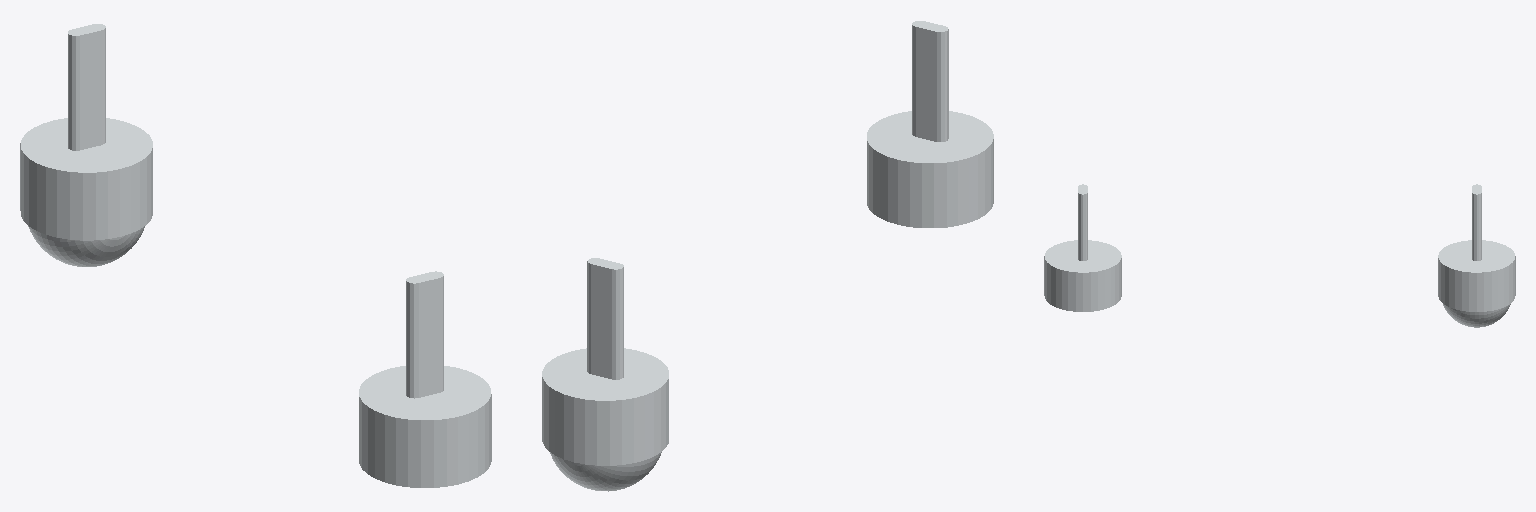
The robot description file, URDF, robot "lide":
<?xml version="1.0" encoding="utf-8"?>
<!-- This URDF was automatically created by SolidWorks to URDF Exporter! Originally created by [author] ([email redacted]) 
     Commit Version: 1.5.1-0-g916b5db  Build Version: 1.5.7152.31018
     For more information, please see http://wiki.ros.org/sw_urdf_exporter -->
<robot
  name="lide">
  <link
    name="base_link">
    <inertial>
      <origin
        xyz="-0.087524 0.0013274 0.047463"
        rpy="0 0 0" />
      <mass
        value="3.153" />
      <inertia
        ixx="0.0073295"
        ixy="-5.4758E-07"
        ixz="-7.3649E-06"
        iyy="0.005633"
        iyz="-3.0089E-07"
        izz="0.012235" />
    </inertial>
    <visual>
      <origin
        xyz="0 0 0"
        rpy="0 0 0" />
      <geometry>
        <mesh
          filename="package://lide/meshes/base_link.STL" />
      </geometry>
      <material
        name="">
        <color
          rgba="0.75294 0.75294 0.75294 1" />
      </material>
    </visual>
    <collision>
      <origin
        xyz="0 0 0"
        rpy="0 0 0" />
      <geometry>
        <mesh
          filename="package://lide/meshes/base_link.STL" />
      </geometry>
    </collision>
  </link>
  <link
    name="LFS">
    <inertial>
      <origin
        xyz="0.04556 0.0083094 0.0029762"
        rpy="0 0 0" />
      <mass
        value="0.072793" />
      <inertia
        ixx="2.2093E-05"
        ixy="-1.6485E-08"
        ixz="-1.5645E-07"
        iyy="1.6263E-05"
        iyz="2.9641E-09"
        izz="1.8084E-05" />
    </inertial>
    <visual>
      <origin
        xyz="0 0 0"
        rpy="0 0 0" />
      <geometry>
        <mesh
          filename="package://lide/meshes/LFS.STL" />
      </geometry>
      <material
        name="">
        <color
          rgba="0.75294 0.75294 0.75294 1" />
      </material>
    </visual>
    <collision>
      <origin
        xyz="0 0 0"
        rpy="0 0 0" />
      <geometry>
        <mesh
          filename="package://lide/meshes/LFS.STL" />
      </geometry>
    </collision>
  </link>
  <joint
    name="LFS"
    type="fixed">
    <origin
      xyz="-0.0210436140506678 0.117153640036847 -0.036502747985397"
      rpy="1.5707963267949 0 1.5707963267949" />
    <parent
      link="base_link" />
    <child
      link="LFS" />
    <axis
      xyz="0 0 0" />
  </joint>
  <link
    name="LFW">
    <inertial>
      <origin
        xyz="0.015 0 2.6021E-18"
        rpy="0 0 0" />
      <mass
        value="0.76708" />
      <inertia
        ixx="0.0011643"
        ixy="-1.2511E-22"
        ixz="-1.8331E-20"
        iyy="0.00063966"
        iyz="-3.3881E-21"
        izz="0.00063966" />
    </inertial>
    <visual>
      <origin
        xyz="0 0 0"
        rpy="0 0 0" />
      <geometry>
        <mesh
          filename="package://lide/meshes/LFW.STL" />
      </geometry>
      <material
        name="">
        <color
          rgba="0.89804 0.91765 0.92941 1" />
      </material>
    </visual>
    <collision>
      <origin
        xyz="0 0 0"
        rpy="0 1.5708 0" />
      <geometry>
        <cylinder length="0.03" radius="0.055"/>
      </geometry>
    </collision>
  </link>
  <joint
    name="LFW"
    type="continuous">
    <origin
      xyz="0.063346 -0.006798 0.015044"
      rpy="-1.6264 0 0" />
    <parent
      link="LFS" />
    <child
      link="LFW" />
    <axis
      xyz="1 0 0" />
    <limit
      effort="3.1"
      velocity="7" />
  </joint>
  <link
    name="RFS">
    <inertial>
      <origin
        xyz="-0.019183 -0.0090093 0.052006"
        rpy="0 0 0" />
      <mass
        value="0.072793" />
      <inertia
        ixx="2.2093E-05"
        ixy="-1.6485E-08"
        ixz="1.5645E-07"
        iyy="1.6263E-05"
        iyz="-2.9641E-09"
        izz="1.8084E-05" />
    </inertial>
    <visual>
      <origin
        xyz="0 0 0"
        rpy="0 0 0" />
      <geometry>
        <mesh
          filename="package://lide/meshes/RFS.STL" />
      </geometry>
      <material
        name="">
        <color
          rgba="0.75294 0.75294 0.75294 1" />
      </material>
    </visual>
    <collision>
      <origin
        xyz="0 0 0"
        rpy="0 0 0" />
      <geometry>
        <mesh
          filename="package://lide/meshes/RFS.STL" />
      </geometry>
    </collision>
  </link>
  <joint
    name="RFS"
    type="fixed">
    <origin
      xyz="-0.070073 -0.14353 -0.019216"
      rpy="1.5708 0 1.5708" />
    <parent
      link="base_link" />
    <child
      link="RFS" />
    <axis
      xyz="0 0 0" />
  </joint>
  <link
    name="RFW">
    <inertial>
      <origin
        xyz="-0.015 1.0842E-19 0"
        rpy="0 0 0" />
      <mass
        value="0.76708" />
      <inertia
        ixx="0.0011643"
        ixy="-4.9591E-37"
        ixz="0"
        iyy="0.00063966"
        iyz="-2.2172E-36"
        izz="0.00063966" />
    </inertial>
    <visual>
      <origin
        xyz="0 0 0"
        rpy="0 0 0" />
      <geometry>
        <mesh
          filename="package://lide/meshes/RFW.STL" />
      </geometry>
      <material
        name="">
        <color
          rgba="0.89804 0.91765 0.92941 1" />
      </material>
    </visual>
    <collision>
      <origin
        xyz="0 0 0"
        rpy="0 1.5708 0" />
      <geometry>
        <cylinder length="0.03" radius="0.055"/>
      </geometry>
    </collision>
  </link>
  <joint
    name="RFW"
    type="continuous">
    <origin
      xyz="-0.036969 -0.024084 0.064073"
      rpy="0 0 0" />
    <parent
      link="RFS" />
    <child
      link="RFW" />
    <axis
      xyz="1 0 0" />
    <limit
      effort="3.1"
      velocity="7" />
  </joint>
  <link
    name="LBS">
    <inertial>
      <origin
        xyz="0 -0.026414 0"
        rpy="0 0 0" />
      <mass
        value="0.15356" />
      <inertia
        ixx="9.9033E-05"
        ixy="-1.5126E-21"
        ixz="3.292E-20"
        iyy="9.2198E-05"
        iyz="-1.2113E-20"
        izz="9.8461E-05" />
    </inertial>
    <visual>
      <origin
        xyz="0 0 0"
        rpy="0 0 0" />
      <geometry>
        <mesh
          filename="package://lide/meshes/LBS.STL" />
      </geometry>
      <material
        name="">
        <color
          rgba="0.89804 0.91765 0.92941 1" />
      </material>
    </visual>
    <collision>
      <origin
        xyz="0 0 0"
        rpy="0 0 0" />
      <geometry>
        <mesh
          filename="package://lide/meshes/LBS.STL" />
      </geometry>
    </collision>
  </link>
  <joint
    name="LBS"
    type="fixed">
    <origin
      xyz="-0.169 0.16275 -0.012562"
      rpy="1.5708 0 1.5708" />
    <parent
      link="base_link" />
    <child
      link="LBS" />
    <axis
      xyz="0 0 0" />
  </joint>
  <link
    name="LBW">
    <inertial>
      <origin
        xyz="3.4694E-18 0 0"
        rpy="0 0 0" />
      <mass
        value="0.30079" />
      <inertia
        ixx="0.00010856"
        ixy="-4.3013E-56"
        ixz="2.8314E-40"
        iyy="0.00010991"
        iyz="7.7486E-40"
        izz="0.00010856" />
    </inertial>
    <visual>
      <origin
        xyz="0 0 0"
        rpy="0 0 0" />
      <geometry>
        <mesh
          filename="package://lide/meshes/LBW.STL" />
      </geometry>
      <material
        name="">
        <color
          rgba="0.89804 0.91765 0.92941 1" />
      </material>
    </visual>
    <collision>
      <origin
        xyz="0 0 0"
        rpy="0 0 0" />
      <geometry>
        <sphere radius="0.03"/>
      </geometry>
    </collision>
  </link>
  <joint
    name="LBW"
    type="fixed">
    <origin
      xyz="0 -0.053938 0"
      rpy="3.1416 0 1.5708" />
    <parent
      link="LBS" />
    <child
      link="LBW" />
    <axis
      xyz="0 0 0" />
    <limit
      lower="0"
      upper="0"
      effort="0"
      velocity="0" />
  </joint>
  <link
    name="RBS">
    <inertial>
      <origin
        xyz="2.0817E-17 -0.026414 0"
        rpy="0 0 0" />
      <mass
        value="0.15356" />
      <inertia
        ixx="9.9033E-05"
        ixy="2.9378E-20"
        ixz="1.4915E-20"
        iyy="9.2198E-05"
        iyz="-1.2105E-20"
        izz="9.8461E-05" />
    </inertial>
    <visual>
      <origin
        xyz="0 0 0"
        rpy="0 0 0" />
      <geometry>
        <mesh
          filename="package://lide/meshes/RBS.STL" />
      </geometry>
      <material
        name="">
        <color
          rgba="0.89804 0.91765 0.92941 1" />
      </material>
    </visual>
    <collision>
      <origin
        xyz="0 0 0"
        rpy="0 0 0" />
      <geometry>
        <mesh
          filename="package://lide/meshes/RBS.STL" />
      </geometry>
    </collision>
  </link>
  <joint
    name="RBS"
    type="fixed">
    <origin
      xyz="-0.169 -0.16275 -0.012562"
      rpy="1.5708 0 1.5708" />
    <parent
      link="base_link" />
    <child
      link="RBS" />
    <axis
      xyz="0 0 0" />
  </joint>
  <link
    name="RBW">
    <inertial>
      <origin
        xyz="-3.4694E-18 6.9389E-18 0"
        rpy="0 0 0" />
      <mass
        value="0.30079" />
      <inertia
        ixx="0.00010856"
        ixy="0"
        ixz="2.6461E-40"
        iyy="0.00010991"
        iyz="-7.7486E-40"
        izz="0.00010856" />
    </inertial>
    <visual>
      <origin
        xyz="0 0 0"
        rpy="0 0 0" />
      <geometry>
        <mesh
          filename="package://lide/meshes/RBW.STL" />
      </geometry>
      <material
        name="">
        <color
          rgba="0.89804 0.91765 0.92941 1" />
      </material>
    </visual>
    <collision>
      <origin
        xyz="0 0 0"
        rpy="0 0 0" />
      <geometry>
        <sphere radius="0.03" />
      </geometry>
    </collision>
  </link>
  <joint
    name="RBW"
    type="fixed">
    <origin
      xyz="0 -0.053938 0"
      rpy="0 0 -1.5708" />
    <parent
      link="RBS" />
    <child
      link="RBW" />
    <axis
      xyz="0 0 0" />
    <limit
      lower="0"
      upper="0"
      effort="0"
      velocity="0" />
  </joint>
  <link
    name="fcam">
    <inertial>
      <origin
        xyz="-0.011554 -2.6443E-06 0.0012903"
        rpy="0 0 0" />
      <mass
        value="0.043612" />
      <inertia
        ixx="2.3571E-05"
        ixy="-1.0184E-09"
        ixz="2.1759E-08"
        iyy="4.2948E-06"
        iyz="-8.8502E-10"
        izz="2.2106E-05" />
    </inertial>
    <visual>
      <origin
        xyz="0 0 0"
        rpy="0 0 0" />
      <geometry>
        <mesh
          filename="package://lide/meshes/fcam.STL" />
      </geometry>
      <material
        name="">
        <color
          rgba="0.79216 0.81961 0.93333 1" />
      </material>
    </visual>
    <collision>
      <origin
        xyz="0 0 0"
        rpy="0 0 0" />
      <geometry>
        <mesh
          filename="package://lide/meshes/fcam.STL" />
      </geometry>
    </collision>
  </link>
  <joint
    name="fcam"
    type="fixed">
    <origin
      xyz="0.029118 0 0.12982"
      rpy="0 0.2618 0" />
    <parent
      link="base_link" />
    <child
      link="fcam" />
    <axis
      xyz="0 0 0" />
  </joint>
  <link
    name="bcam">
    <inertial>
      <origin
        xyz="-0.020103 -2.6435E-06 -0.0072587"
        rpy="0 0 0" />
      <mass
        value="0.043612" />
      <inertia
        ixx="2.3571E-05"
        ixy="-1.0183E-09"
        ixz="2.1758E-08"
        iyy="4.2948E-06"
        iyz="-8.8548E-10"
        izz="2.2106E-05" />
    </inertial>
    <visual>
      <origin
        xyz="0 0 0"
        rpy="0 0 0" />
      <geometry>
        <mesh
          filename="package://lide/meshes/bcam.STL" />
      </geometry>
      <material
        name="">
        <color
          rgba="0.79216 0.81961 0.93333 1" />
      </material>
    </visual>
    <collision>
      <origin
        xyz="0 0 0"
        rpy="0 0 0" />
      <geometry>
        <mesh
          filename="package://lide/meshes/bcam.STL" />
      </geometry>
    </collision>
  </link>
  <joint
    name="bcam"
    type="fixed">
    <origin
      xyz="0.033 0 0.091232"
      rpy="0 0.7854 0" />
    <parent
      link="base_link" />
    <child
      link="bcam" />
    <axis
      xyz="0 0 0" />
  </joint>
  <link
    name="Lidar">
    <inertial>
      <origin
        xyz="0.013523 0.00046196 -0.028765"
        rpy="0 0 0" />
      <mass
        value="0.073085" />
      <inertia
        ixx="1.9581E-05"
        ixy="-1.0393E-07"
        ixz="-4.2839E-07"
        iyy="2.4125E-05"
        iyz="9.4271E-09"
        izz="4.1418E-05" />
    </inertial>
    <visual>
      <origin
        xyz="0 0 0"
        rpy="0 0 0" />
      <geometry>
        <mesh
          filename="package://lide/meshes/Lidar.STL" />
      </geometry>
      <material
        name="">
        <color
          rgba="0.79216 0.81961 0.93333 1" />
      </material>
    </visual>
    <collision>
      <origin
        xyz="0 0 0"
        rpy="0 0 0" />
      <geometry>
        <mesh
          filename="package://lide/meshes/Lidar.STL" />
      </geometry>
    </collision>
  </link>
  <joint
    name="Lidar"
    type="fixed">
    <origin
      xyz="-0.171576367600142 -0.000994047553699723 0.206499999999996"
      rpy="0 0 0" />
    <parent
      link="base_link" />
    <child
      link="Lidar" />
    <axis
      xyz="0 0 0" />
  </joint>
  <link
    name="imu_link">
    <inertial>
      <origin
        xyz="0.0029108 6.2398E-05 -0.0010338"
        rpy="0 0 0" />
      <mass
        value="0.0018918" />
      <inertia
        ixx="7.7943E-08"
        ixy="1.3921E-10"
        ixz="1.5451E-11"
        iyy="4.8547E-08"
        iyz="-6.301E-11"
        izz="1.2523E-07" />
    </inertial>
    <visual>
      <origin
        xyz="0 0 0"
        rpy="0 0 0" />
      <geometry>
        <mesh
          filename="package://lide/meshes/imu_link.STL" />
      </geometry>
      <material
        name="">
        <color
          rgba="0.89804 0.91765 0.92941 1" />
      </material>
    </visual>
    <collision>
      <origin
        xyz="0 0 0"
        rpy="0 0 0" />
      <geometry>
        <mesh
          filename="package://lide/meshes/imu_link.STL" />
      </geometry>
    </collision>
  </link>
  <joint
    name="imu_link"
    type="fixed">
    <origin
      xyz="-0.007625 0 0.155"
      rpy="0 0 0" />
    <parent
      link="base_link" />
    <child
      link="imu_link" />
    <axis
      xyz="0 0 0" />
  </joint>
</robot>

--- Facts derived from the render (not from the file) ---
The picture shows the robot from 3 angles, left to right: view 1: azimuth 30°, elevation 25°; view 2: azimuth 150°, elevation 25°; view 3: azimuth 270°, elevation 25°; orthographic projection.
Robot: lide — 13 links, 12 joints (2 continuous, 10 fixed); root link base_link; default pose: every joint at zero.
Links seen in each view (by area): view 1: LBS, RBS, LBW; view 2: LBS, RBS, LBW; view 3: LBS, RBS, LBW.
Link boxes in pixels (x1,y1,x2,y2): LBS: (20, 24, 152, 240); RBS: (359, 271, 491, 487); LBW: (28, 226, 144, 266); LBS: (542, 258, 668, 465); RBS: (867, 21, 993, 227); LBW: (550, 452, 661, 491); LBS: (1438, 184, 1515, 311); RBS: (1044, 184, 1121, 311); LBW: (1443, 304, 1510, 327).
Bounding box of the posed robot: 0.064 × 0.3895 × 0.1229 m (x, y, z).
Meshes: 13 distinct files referenced, 3 mesh visuals loaded (3 binary STL); not drawn: 10 (reference not matched to a file when rendering).